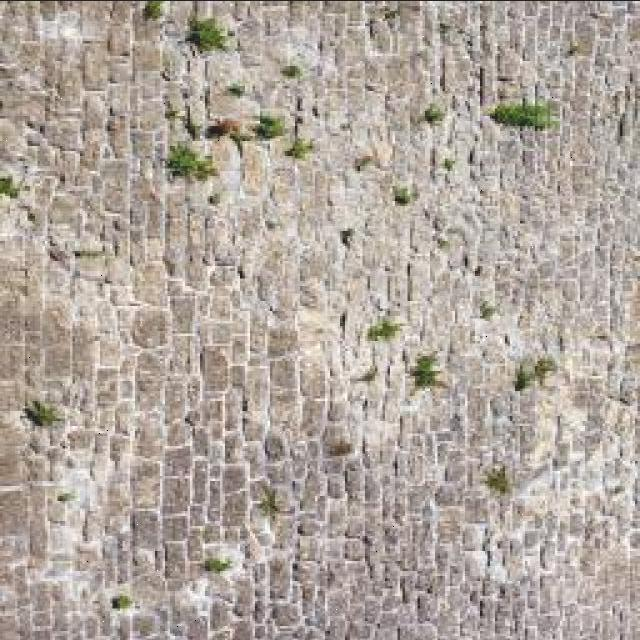crack: (0, 1, 639, 638), (34, 298, 81, 365), (0, 483, 35, 549), (0, 427, 30, 486), (168, 292, 201, 340), (81, 44, 116, 89), (131, 39, 168, 75), (104, 252, 137, 292), (74, 252, 114, 284), (496, 45, 527, 80), (24, 129, 46, 149), (292, 109, 302, 152), (407, 259, 414, 308), (478, 66, 486, 106)
dampness: (150, 26, 308, 627), (471, 127, 640, 333), (3, 244, 128, 465), (1, 5, 126, 174), (156, 125, 280, 289), (89, 254, 180, 430)
vegetation: (362, 57, 557, 208), (101, 574, 219, 640), (488, 98, 553, 130), (165, 142, 218, 180), (185, 15, 233, 53), (157, 43, 191, 96), (108, 593, 147, 638), (208, 117, 256, 144), (24, 399, 63, 428), (163, 86, 189, 128), (253, 114, 286, 140), (283, 136, 315, 160), (366, 3, 398, 26), (180, 109, 201, 143), (419, 102, 449, 125), (390, 180, 418, 203), (489, 103, 518, 125), (0, 175, 22, 200), (142, 1, 167, 22), (111, 593, 137, 612), (570, 36, 592, 58), (354, 154, 377, 172), (73, 249, 113, 258), (280, 63, 303, 78), (339, 228, 355, 248), (479, 304, 497, 321), (226, 83, 246, 97), (441, 157, 456, 172), (436, 235, 451, 249)
